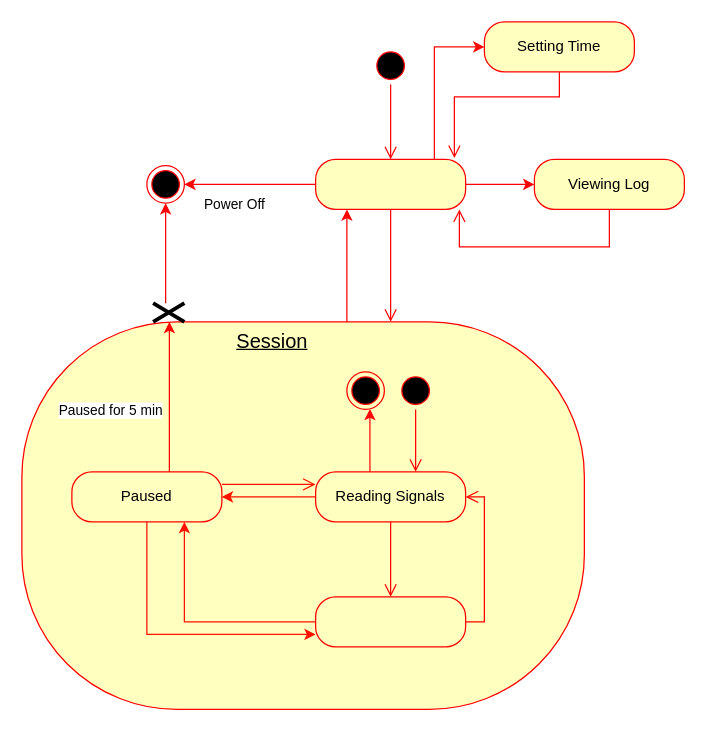
Some shapes in this 706 by 731 pixel diagram are drawn without their labels. The centre of each missing label's shape, as x and y in pixels:
"Applying Treatment" goes at (390,621).
"Idle" goes at (390,183).
